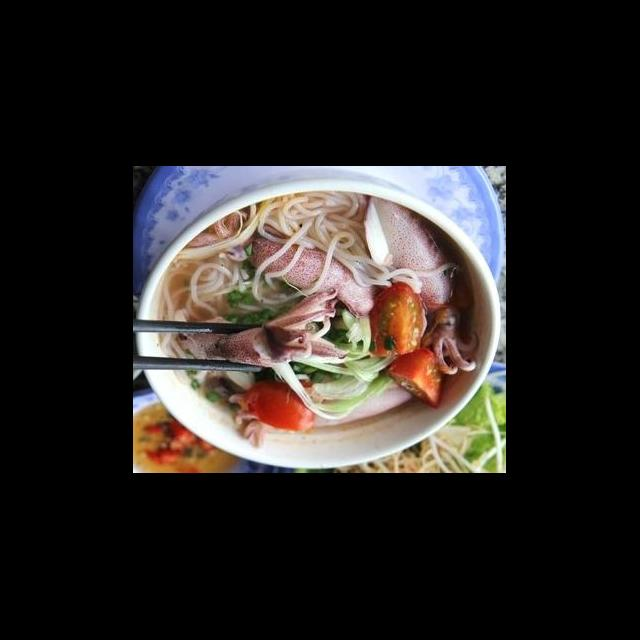bun: (248, 188, 428, 298), (156, 240, 316, 324), (156, 328, 210, 388)
muc: (360, 190, 484, 378), (182, 210, 390, 322), (170, 282, 352, 374)
